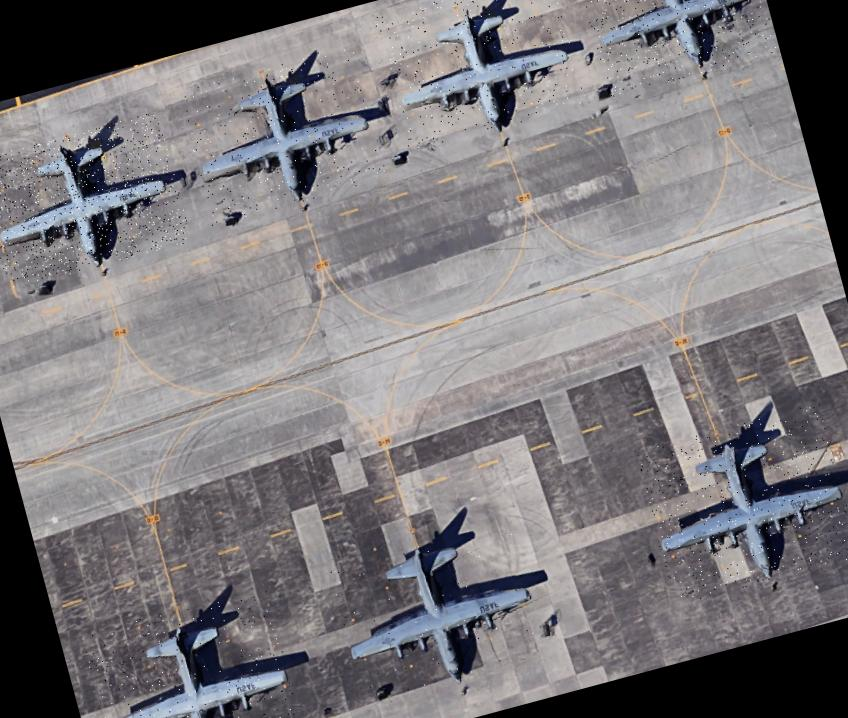A2: (324, 502, 552, 706), (634, 402, 848, 605), (176, 43, 388, 225), (0, 110, 192, 290), (373, 0, 586, 152), (80, 584, 307, 718), (571, 0, 778, 97)
